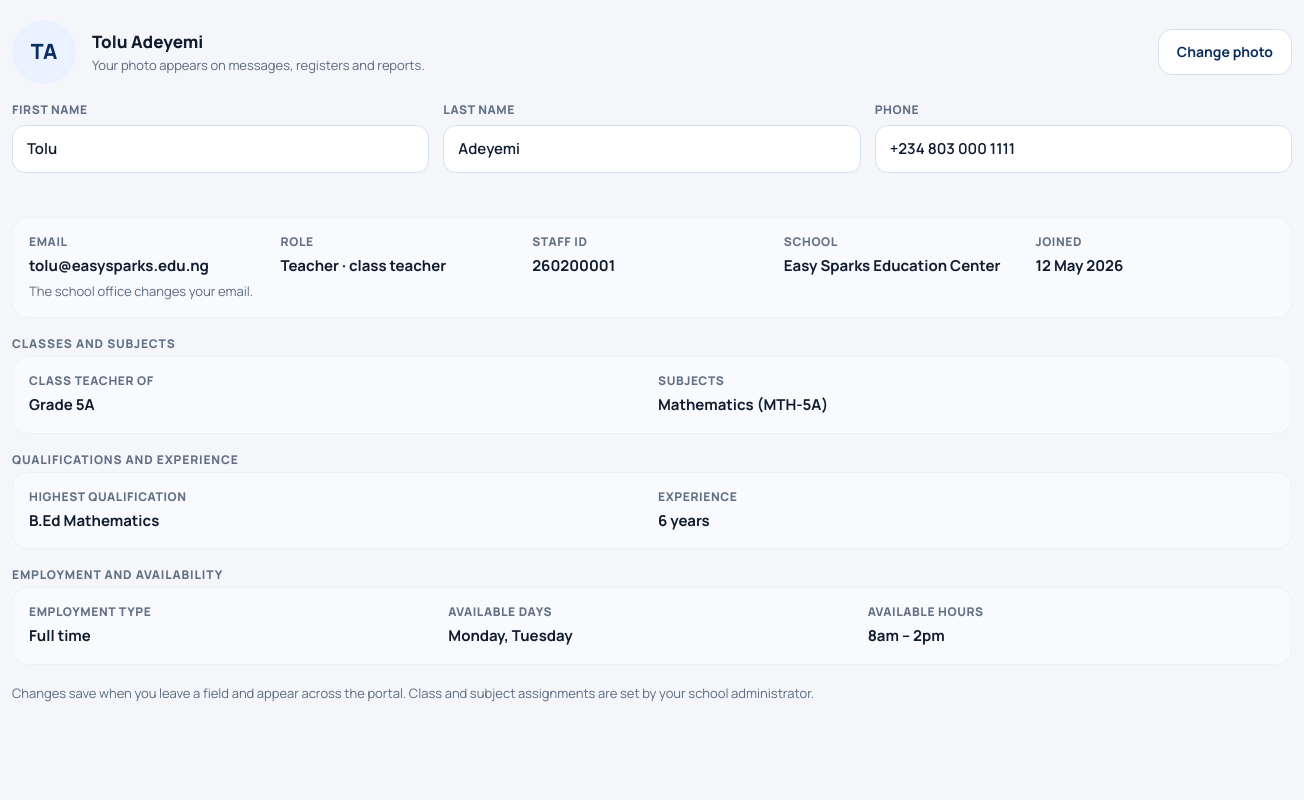
Test: Settings → Account › shows the server's own reason for a field it refuses
Replace the text in the field labelled "Phone" with "0803 000 2222": (1083, 149) [875,125,1292,173]
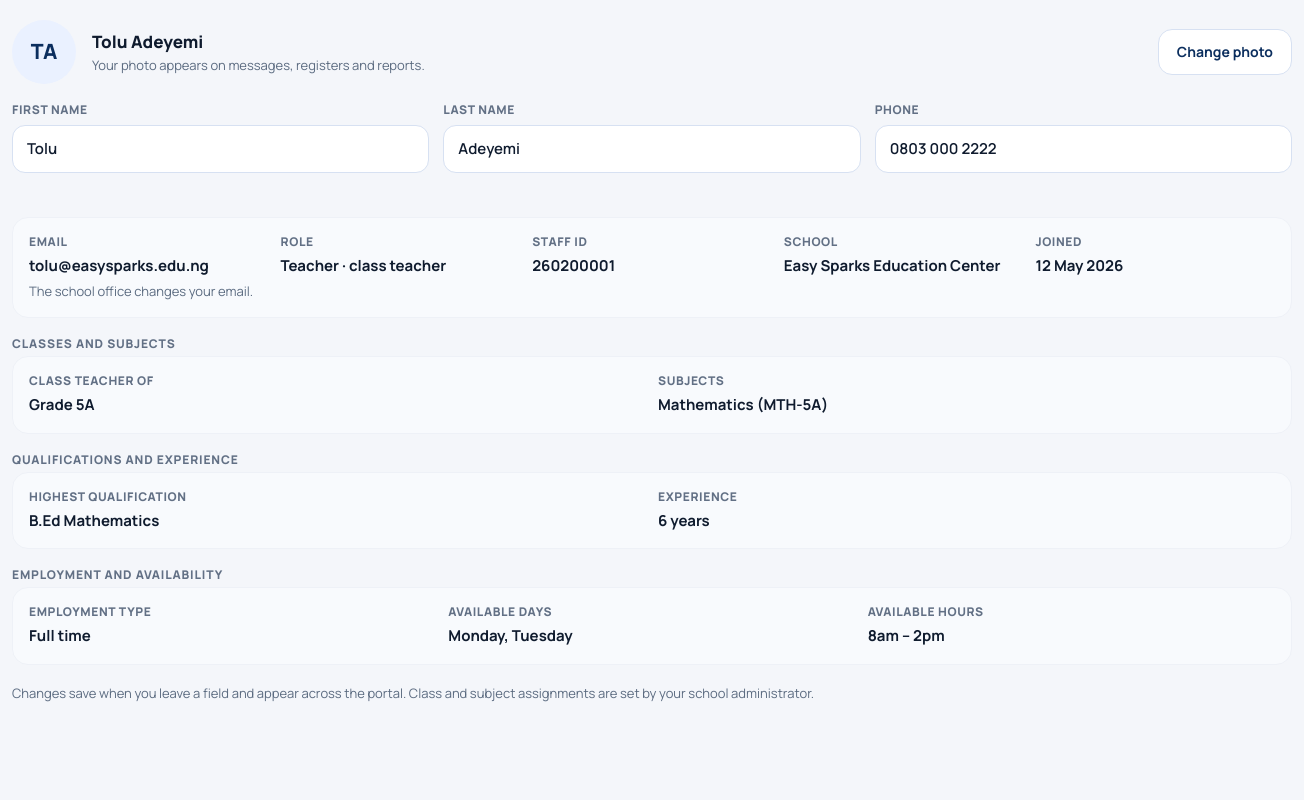
Leave the field labelled "Phone", box [875,125,1292,173]
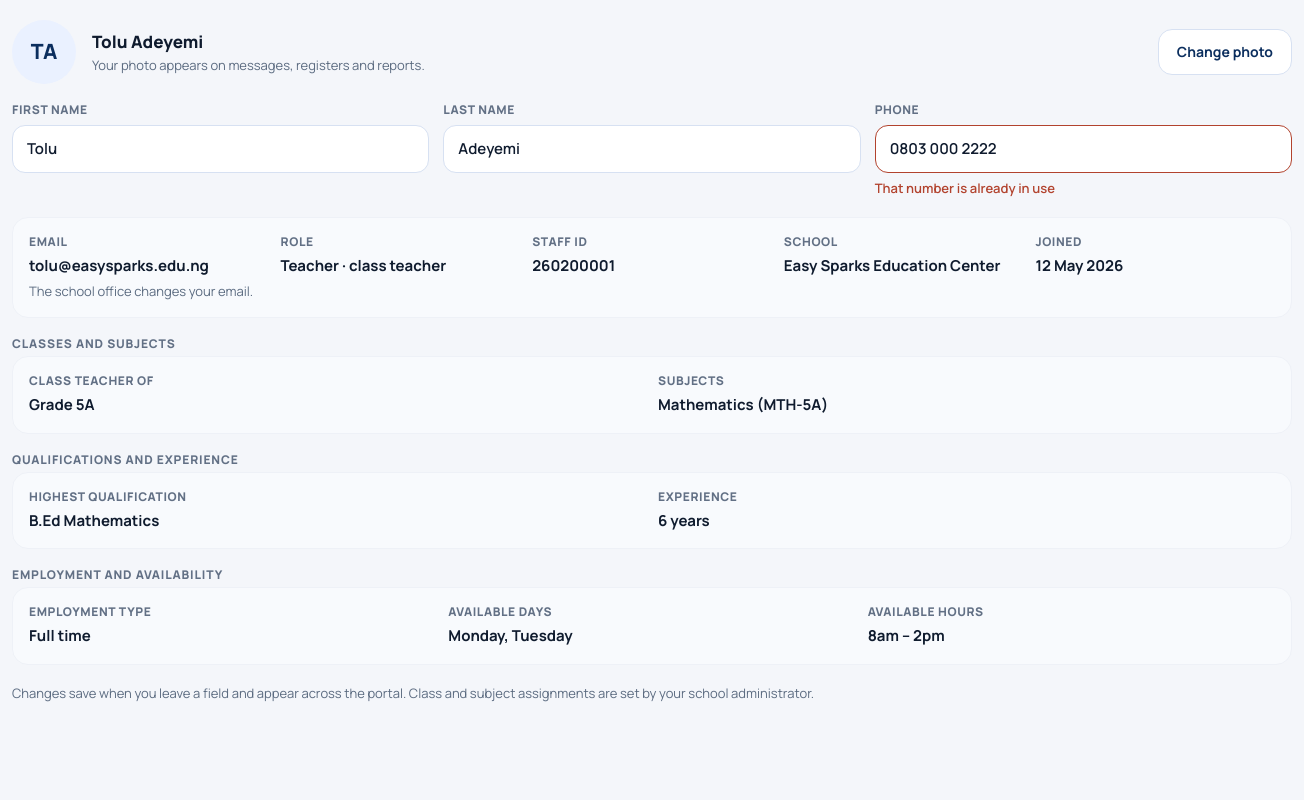
Now the message reads "That number is already in use", box [875,179,1055,197]
